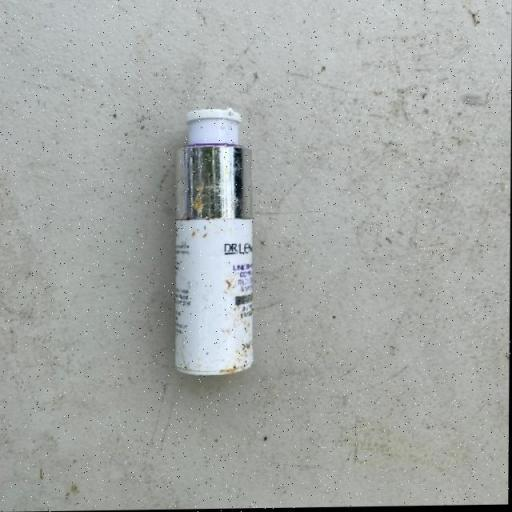plastic: (172, 106, 256, 376)
